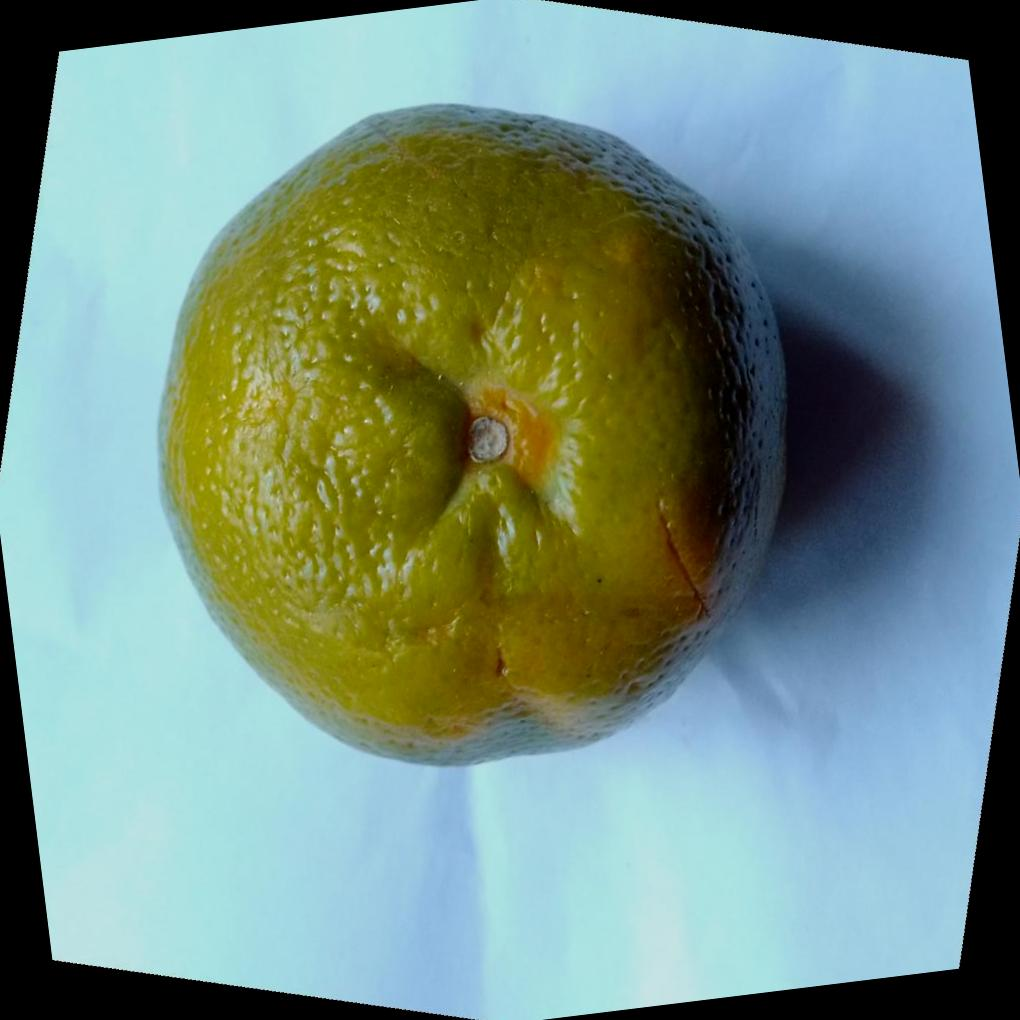FreshGuava: (152, 102, 787, 770)
